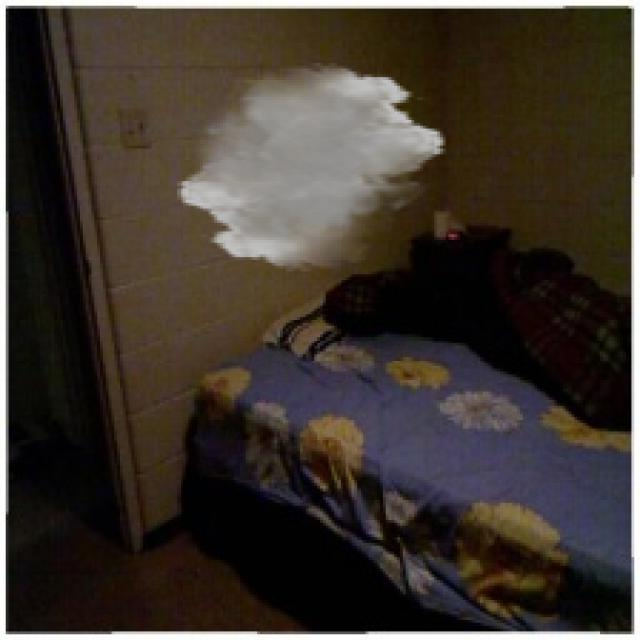smoke: (174, 63, 449, 271)
